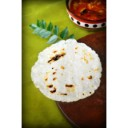poori: (32, 40, 101, 97)
